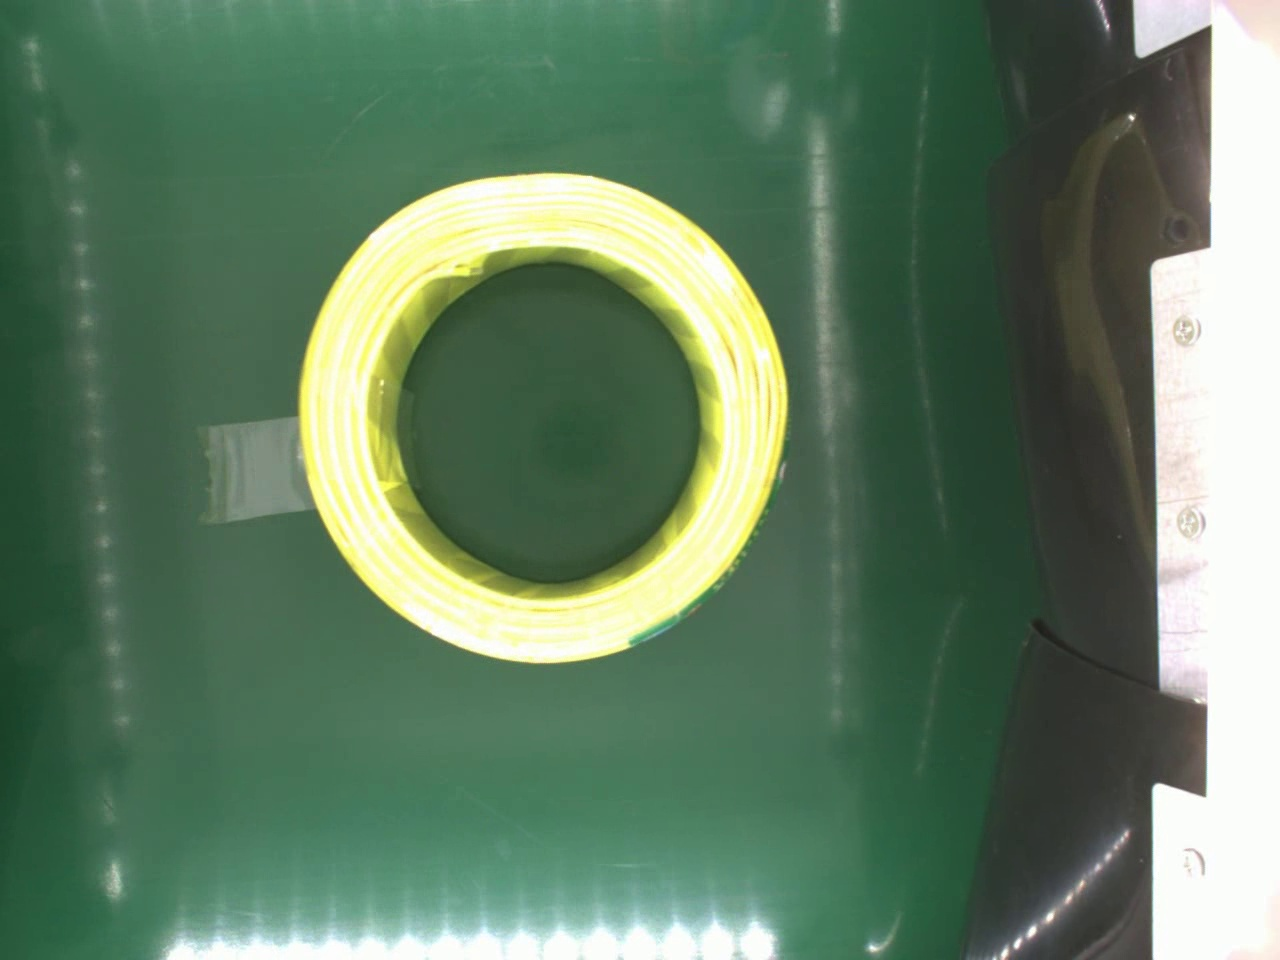yellow: (293, 162, 794, 671)
